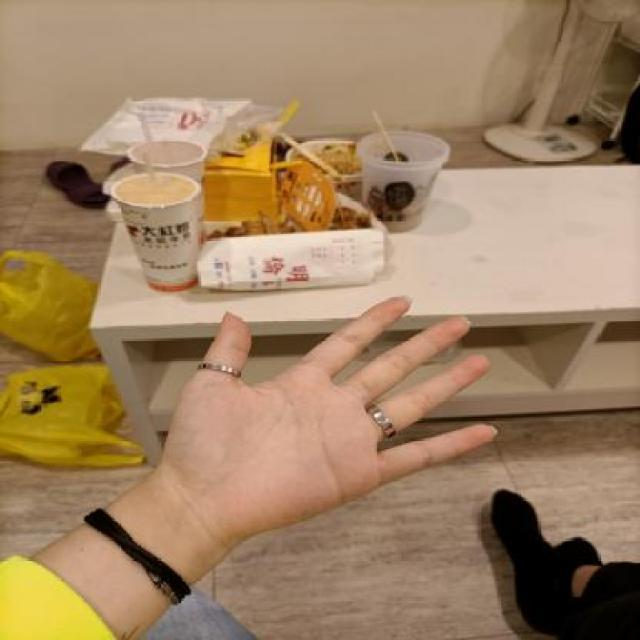Hand: (112, 284, 498, 528)
